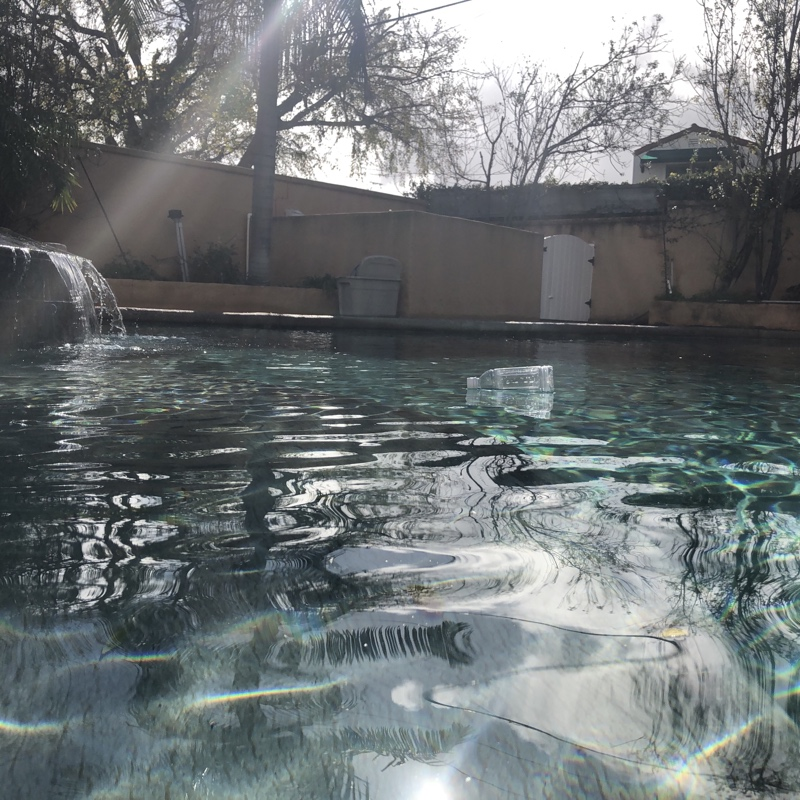Plastic Bottle: (464, 362, 559, 395)
